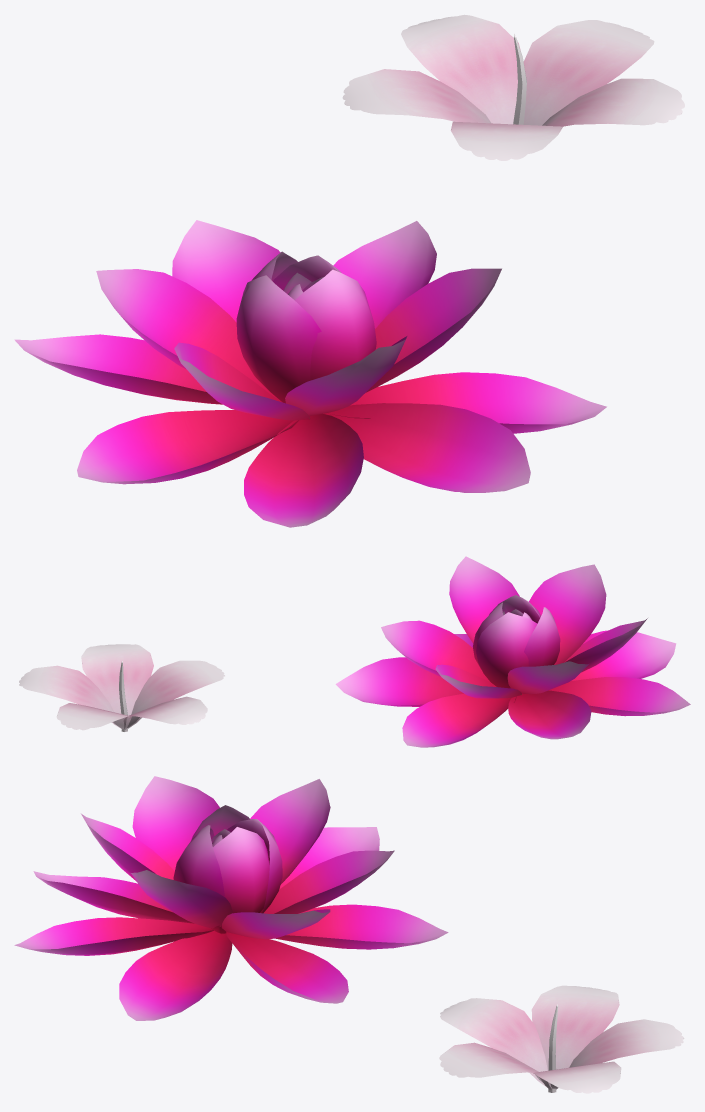
File: env_flower_kit_export_01.fbx
3 renders of one model, top to bottom at view 1: azimuth 30°, elevation 25°; view 2: azimuth 150°, elevation 25°; view 3: azimuth 270°, elevation 25°, orthographic. The views are drawn at different scales.
Parts seen in each view (by area): view 1: pPlane6, F1_petal2; view 2: pPlane6, F1_petal2; view 3: pPlane6, F1_petal2.
Boxes of the visible parts, x1,y1,x2,y2 form: pPlane6: (14,220,606,527); F1_petal2: (342,14,684,160); pPlane6: (335,556,690,747); F1_petal2: (19,644,224,731); pPlane6: (14,776,448,1020); F1_petal2: (439,985,684,1093).
Bounding box in the file's own units: 33.38 × 6.61 × 31.46.
2 materials, 2 textured.
